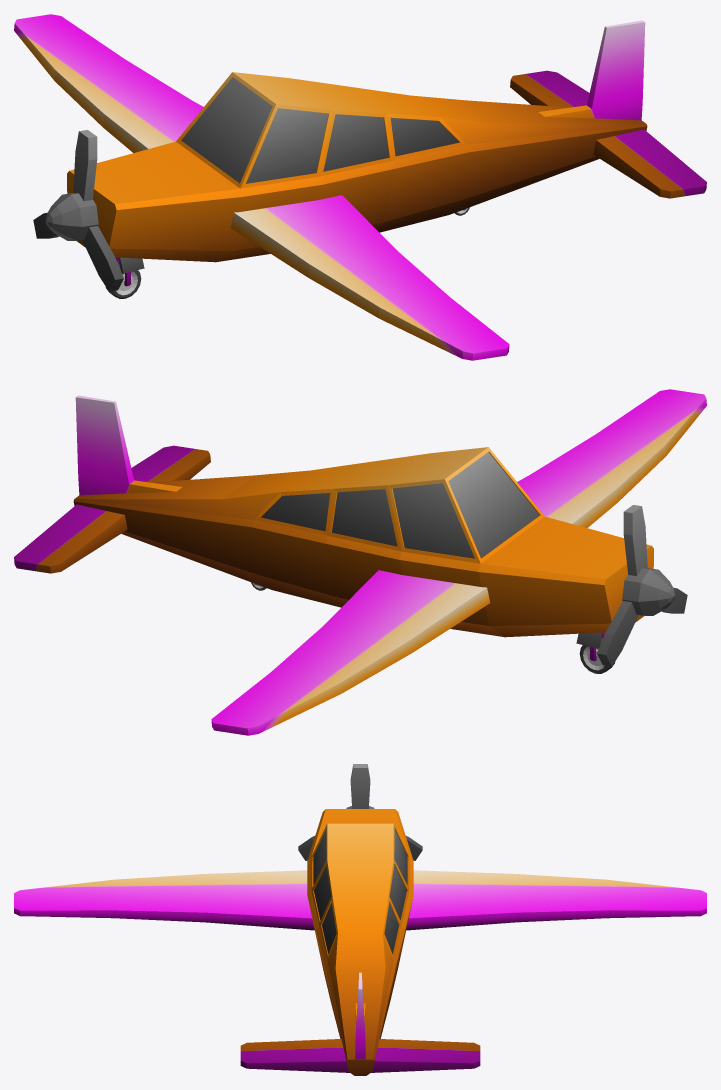
3 views of the same model, one above another, from view 1: azimuth 30°, elevation 25°; view 2: azimuth 150°, elevation 25°; view 3: azimuth 270°, elevation 25° (orthographic). The views are drawn at different scales.
Visible parts, largest first — view 1: G_Plane, G_Propeller; view 2: G_Plane, G_Propeller; view 3: G_Plane, G_Propeller.
Part boxes in pixels (x1,y1,x2,y2): G_Plane: (14,14,706,360); G_Propeller: (33,130,123,291); G_Plane: (14,389,706,735); G_Propeller: (597,505,687,666); G_Plane: (14,809,706,1075); G_Propeller: (298,764,422,860).
Size of the model in its own units: 498 by 141 by 659.
Materials: 1 (1 with a texture image).
